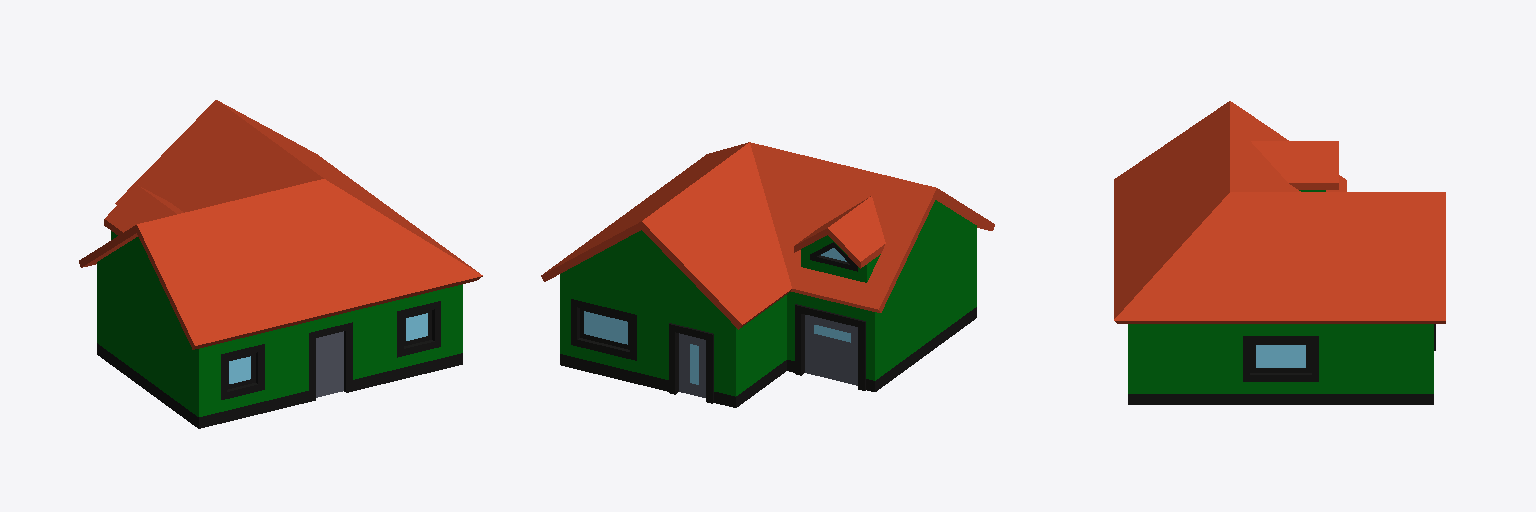
File: insta_residential_wood_1.obj
The picture shows the model from 3 angles: view 1: azimuth 30°, elevation 25°; view 2: azimuth 150°, elevation 25°; view 3: azimuth 270°, elevation 25°; orthographic projection.
Parts seen in each view (by area): view 1: insta_residential_wood_1_roof(Clone), insta_residential_wood_1__defaultMat(Clone), insta_residential_wood_1_border(Clone), insta_residential_wood_1_door(Clone), insta_residential_wood_1_window(Clone); view 2: insta_residential_wood_1_roof(Clone), insta_residential_wood_1__defaultMat(Clone), insta_residential_wood_1_border(Clone), insta_residential_wood_1_door(Clone), insta_residential_wood_1_window(Clone); view 3: insta_residential_wood_1_roof(Clone), insta_residential_wood_1__defaultMat(Clone), insta_residential_wood_1_border(Clone), insta_residential_wood_1_window(Clone).
Boxes of the visible parts, x1,y1,x2,y2 form: insta_residential_wood_1_roof(Clone): [79, 100, 482, 349]; insta_residential_wood_1__defaultMat(Clone): [97, 231, 462, 416]; insta_residential_wood_1_border(Clone): [97, 301, 462, 428]; insta_residential_wood_1_door(Clone): [316, 331, 343, 397]; insta_residential_wood_1_window(Clone): [229, 313, 427, 383]; insta_residential_wood_1_roof(Clone): [541, 142, 994, 329]; insta_residential_wood_1__defaultMat(Clone): [560, 200, 976, 396]; insta_residential_wood_1_border(Clone): [560, 242, 976, 407]; insta_residential_wood_1_door(Clone): [679, 315, 857, 397]; insta_residential_wood_1_window(Clone): [584, 248, 850, 384]; insta_residential_wood_1_roof(Clone): [1114, 101, 1445, 323]; insta_residential_wood_1__defaultMat(Clone): [1128, 190, 1433, 393]; insta_residential_wood_1_border(Clone): [1128, 324, 1435, 404]; insta_residential_wood_1_window(Clone): [1256, 345, 1305, 367].
Size of the model in its own units: 0.9418 by 0.531 by 0.9418.